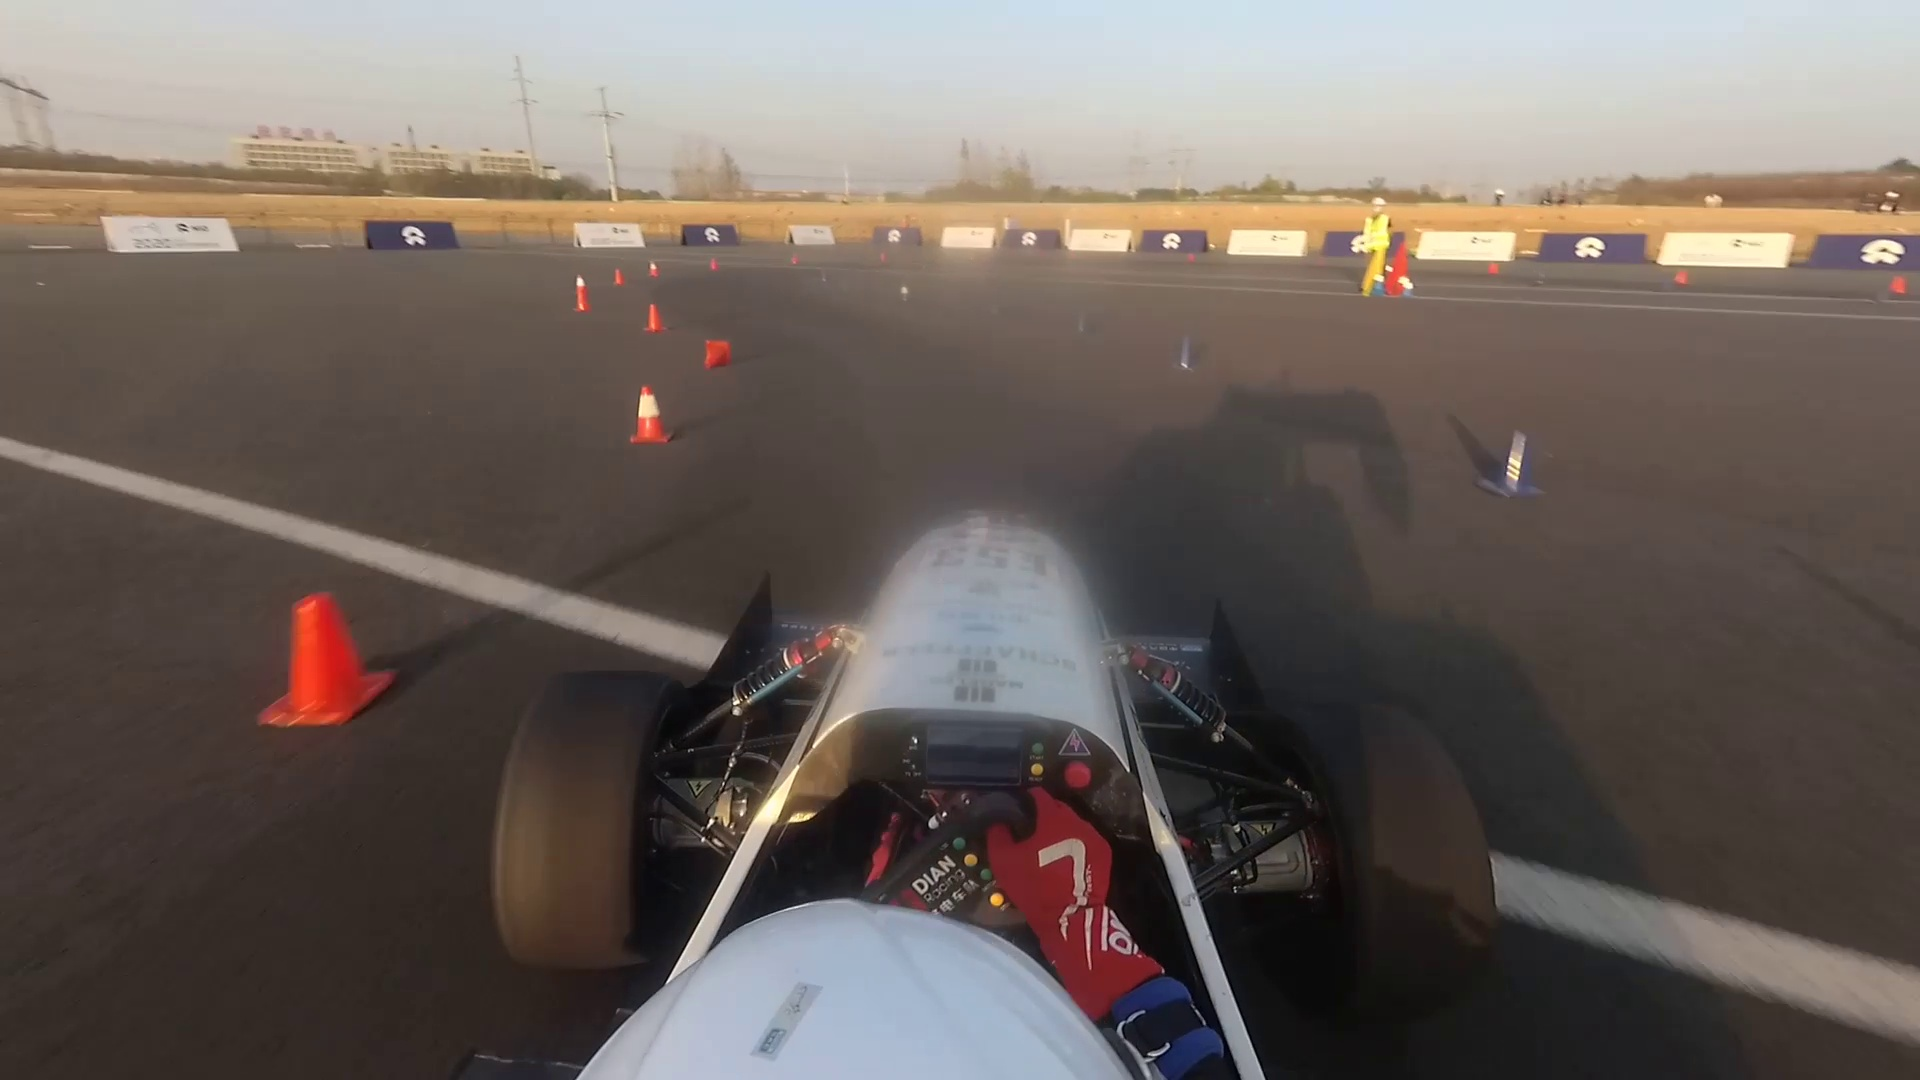blue_cone: (1474, 429, 1548, 492), (1159, 328, 1200, 375), (1064, 305, 1100, 342), (895, 280, 914, 309)
red_cone: (237, 596, 407, 735), (618, 378, 680, 452), (703, 334, 731, 371), (568, 276, 596, 313), (642, 299, 669, 334), (1887, 268, 1908, 298), (1669, 262, 1691, 291), (609, 266, 626, 286), (645, 257, 662, 277), (1486, 258, 1503, 278), (704, 255, 723, 272), (789, 251, 800, 266)
